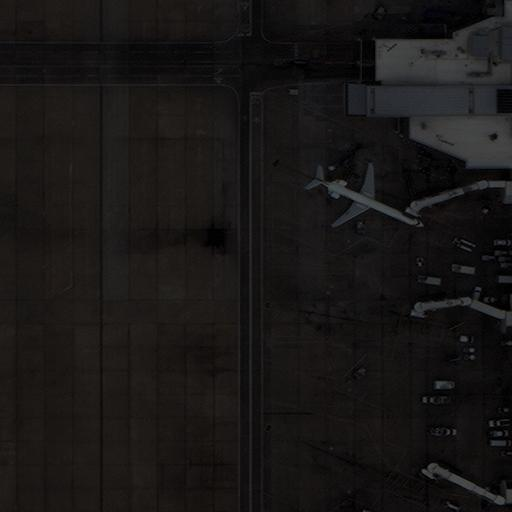Medium Civil Transport: (311, 163, 426, 228)
